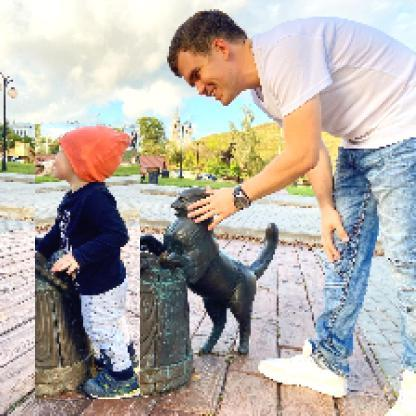child: (36, 125, 142, 401)
